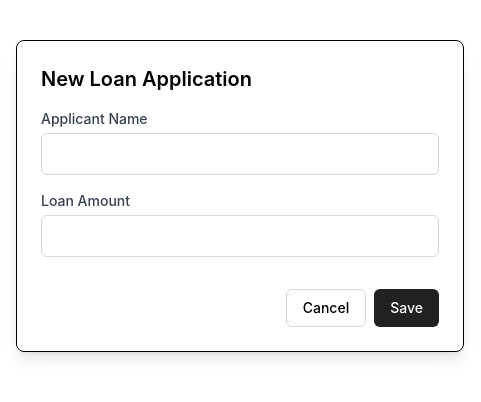
Scenario: LoanForm Component › validates Loan Amount when value is less than 0
This screenshot has width=481, height=402.
Type "-1" into the field labelled "Loan Amount" at (240, 236), box [41,215,439,257]
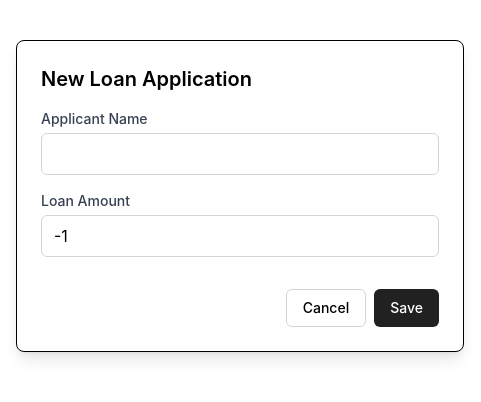
Click the button "Save" at (407, 308), box [374,289,439,327]
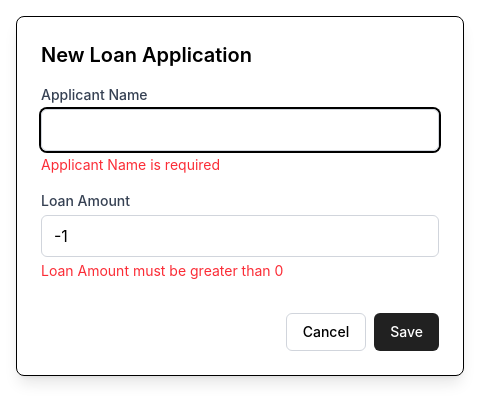
Expected: the text "Loan Amount must be greater than 0" is shown, [41,262,283,279]
